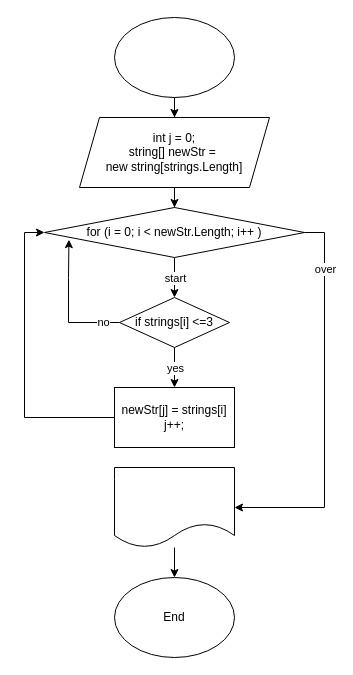
Image size: 353x675. Some labels were removed from this diagram. The shapes that lost their labels are listed below. From the top down, each one's centre as x and y in pixels, then its label:
the point at 174,57: Strat
the point at 174,507: Print (strings --> newStr)
